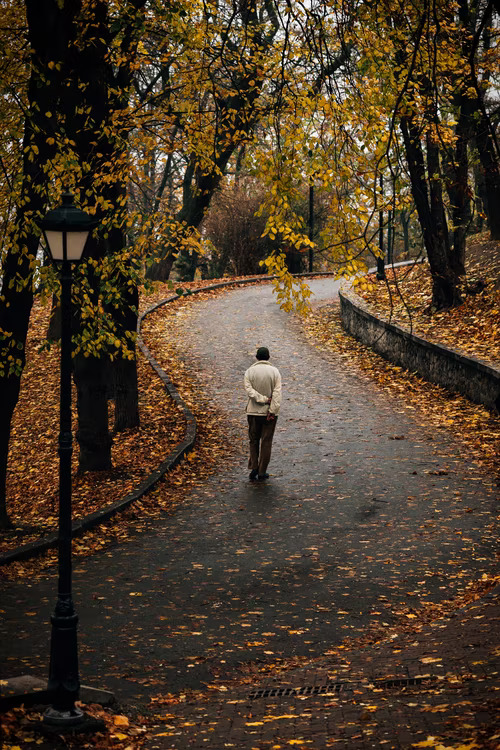person: (243, 347, 282, 477)
